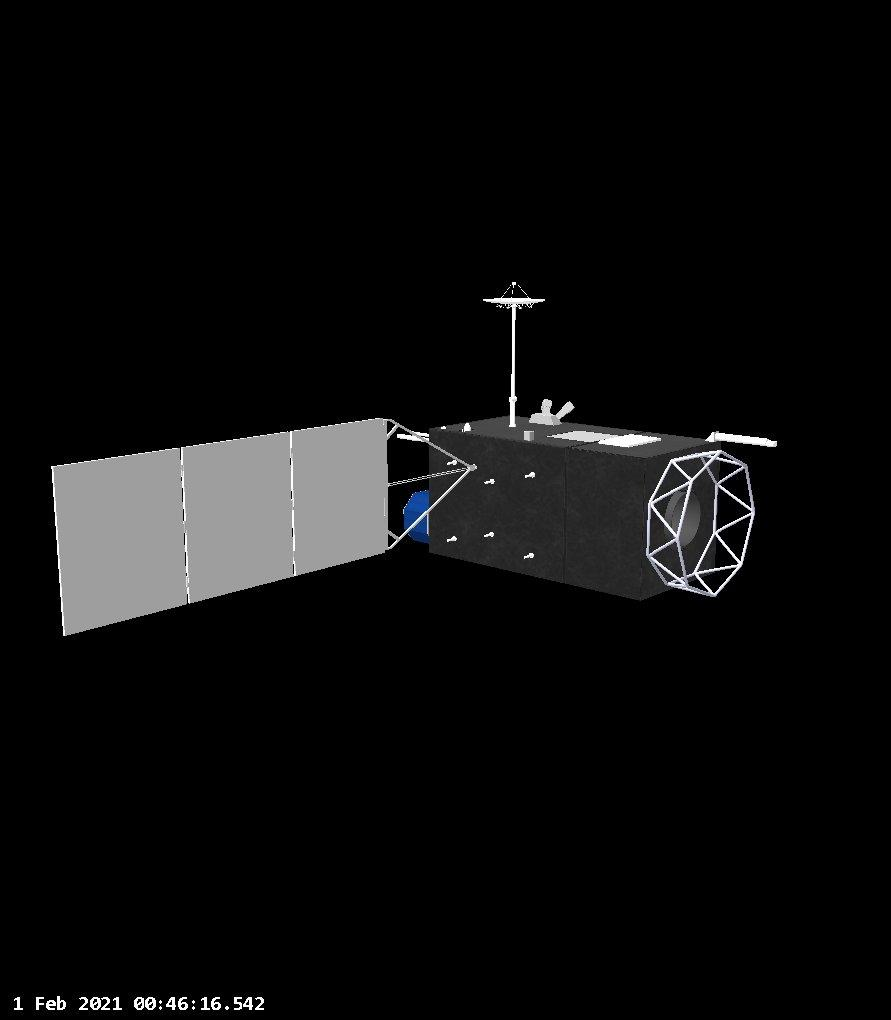antenna: (482, 279, 544, 311)
body: (421, 416, 719, 603)
solar: (51, 413, 392, 639)
thruster: (555, 399, 579, 424), (539, 396, 556, 416), (523, 552, 535, 560), (483, 478, 496, 485), (447, 459, 458, 467), (525, 471, 535, 479), (447, 536, 457, 543), (484, 532, 495, 538)
